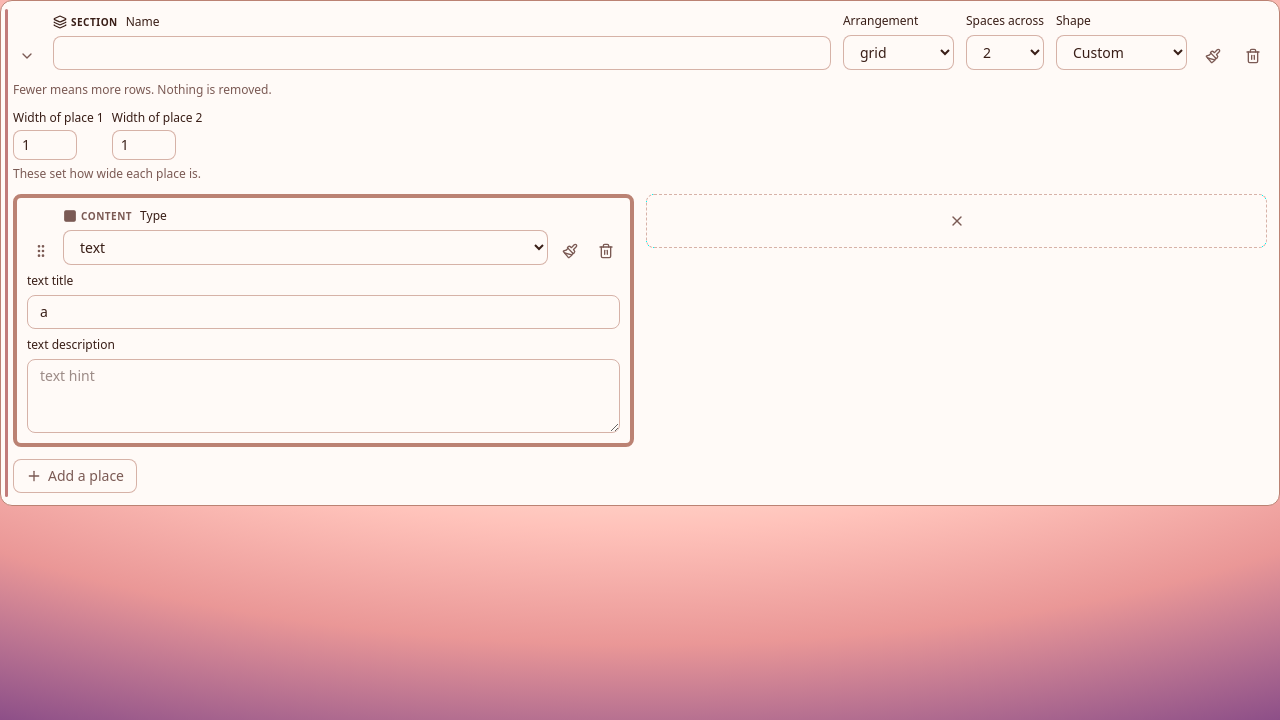
Test: BlockCard › the section's own fields › still collapses when the refusal is somewhere else
This screenshot has width=1280, height=720.
Step 1. Click the button with test id "collapse-section" → [27, 56], box [13,42,41,70]
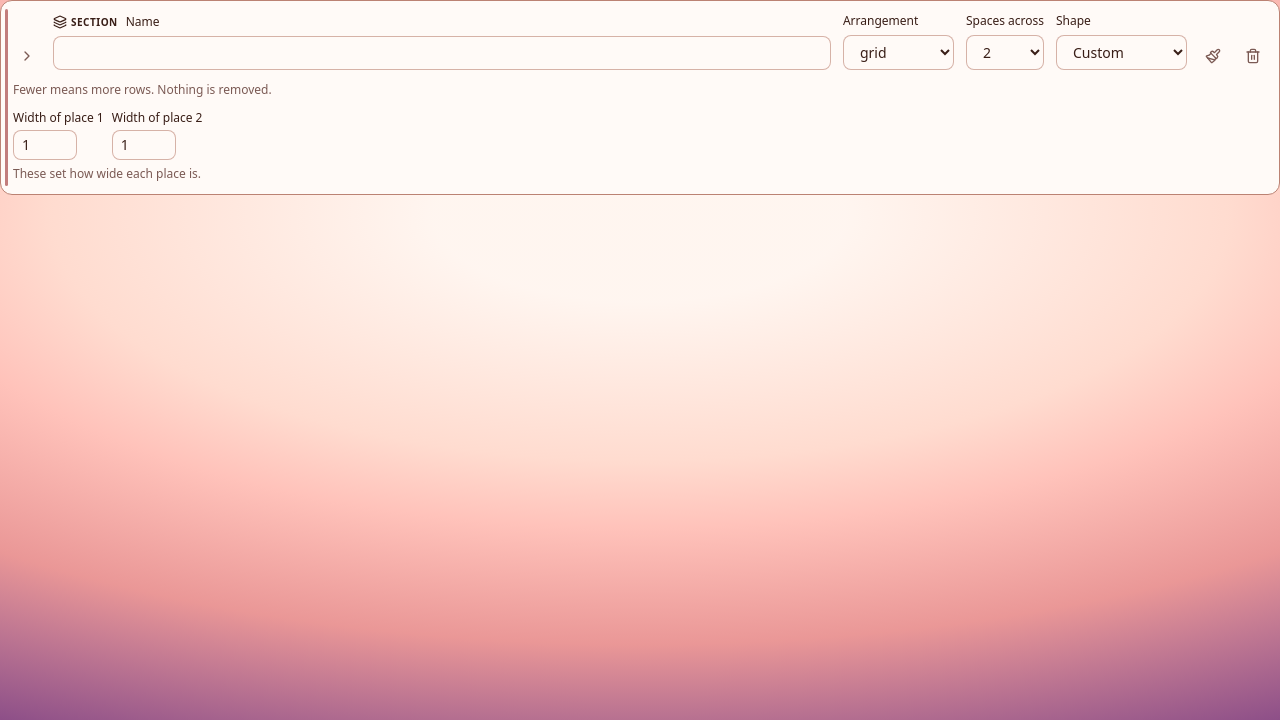
Expected: the element with test id "places" is gone
